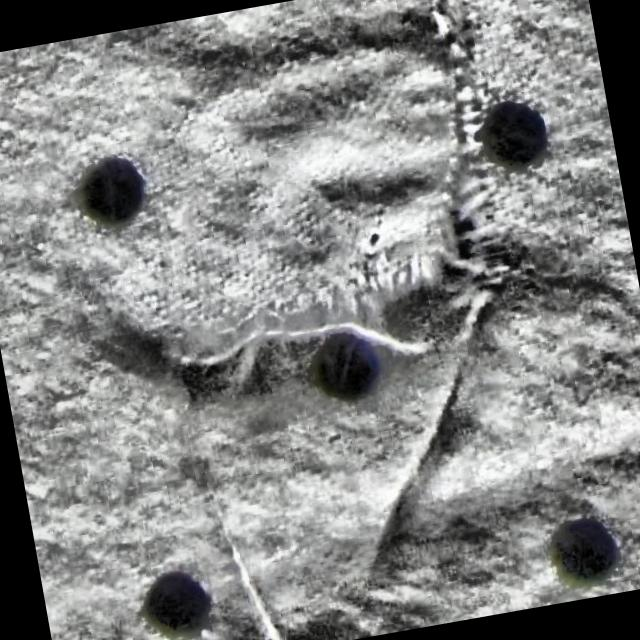cut: (142, 216, 470, 396)
gray stitch: (406, 0, 537, 253)
selvet: (329, 366, 522, 580), (207, 516, 302, 640)
